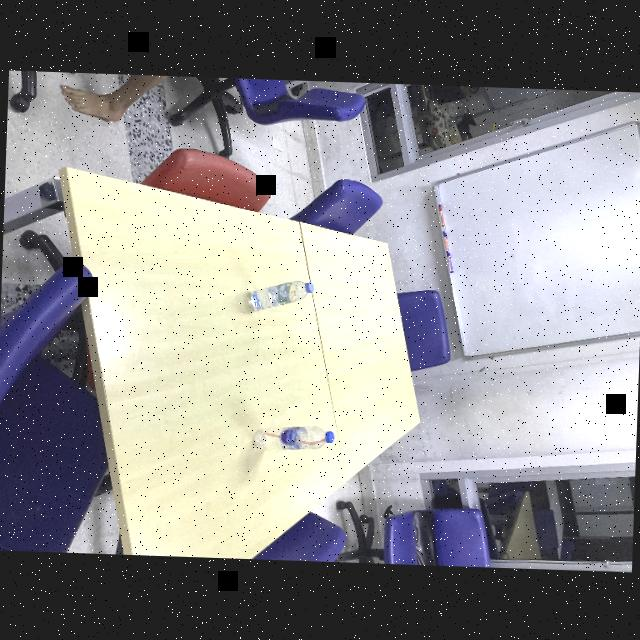plastic_bottle: (253, 421, 335, 453), (244, 277, 316, 312)
